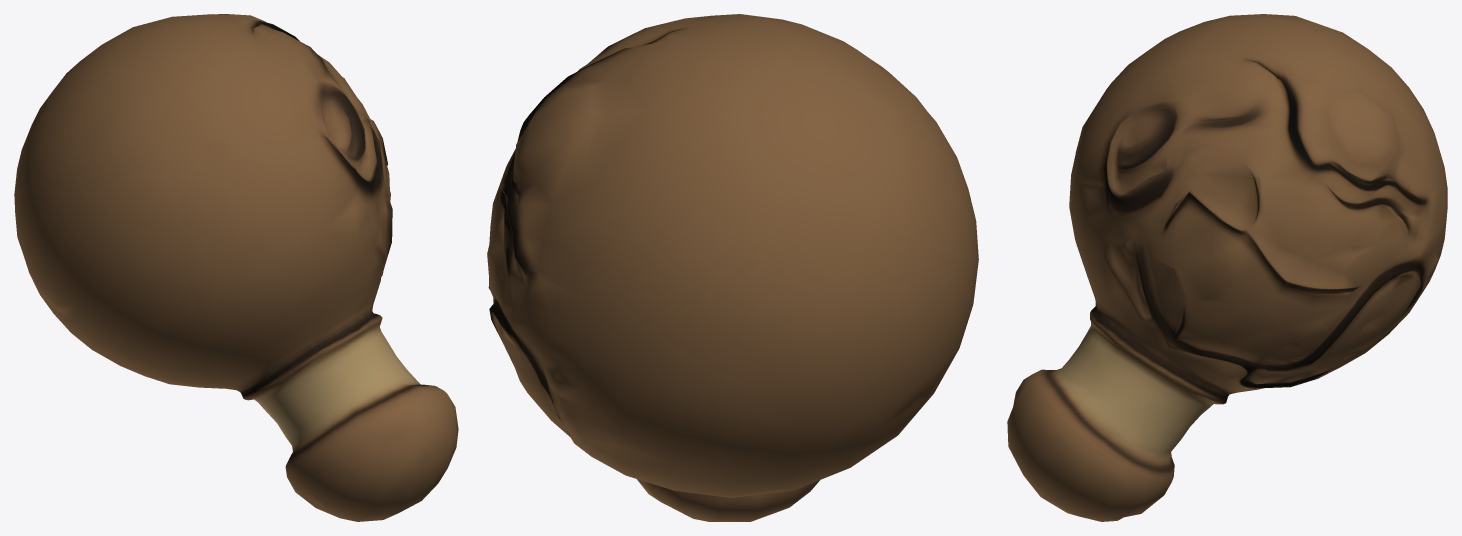
The model's file is emberglass_lens.glb.
3 renders of one model, left to right at view 1: azimuth 30°, elevation 25°; view 2: azimuth 150°, elevation 25°; view 3: azimuth 270°, elevation 25°, orthographic. The views are drawn at different scales.
Parts seen in each view (by area): view 1: base_model_path; view 2: base_model_path; view 3: base_model_path.
Boxes of the visible parts, bbox=[...] form: base_model_path: bbox=[14, 14, 458, 521]; base_model_path: bbox=[487, 14, 978, 521]; base_model_path: bbox=[1007, 14, 1447, 521].
Size of the model in its own units: 0.7767 by 0.9997 by 0.9058.
1 material, 1 textured.
